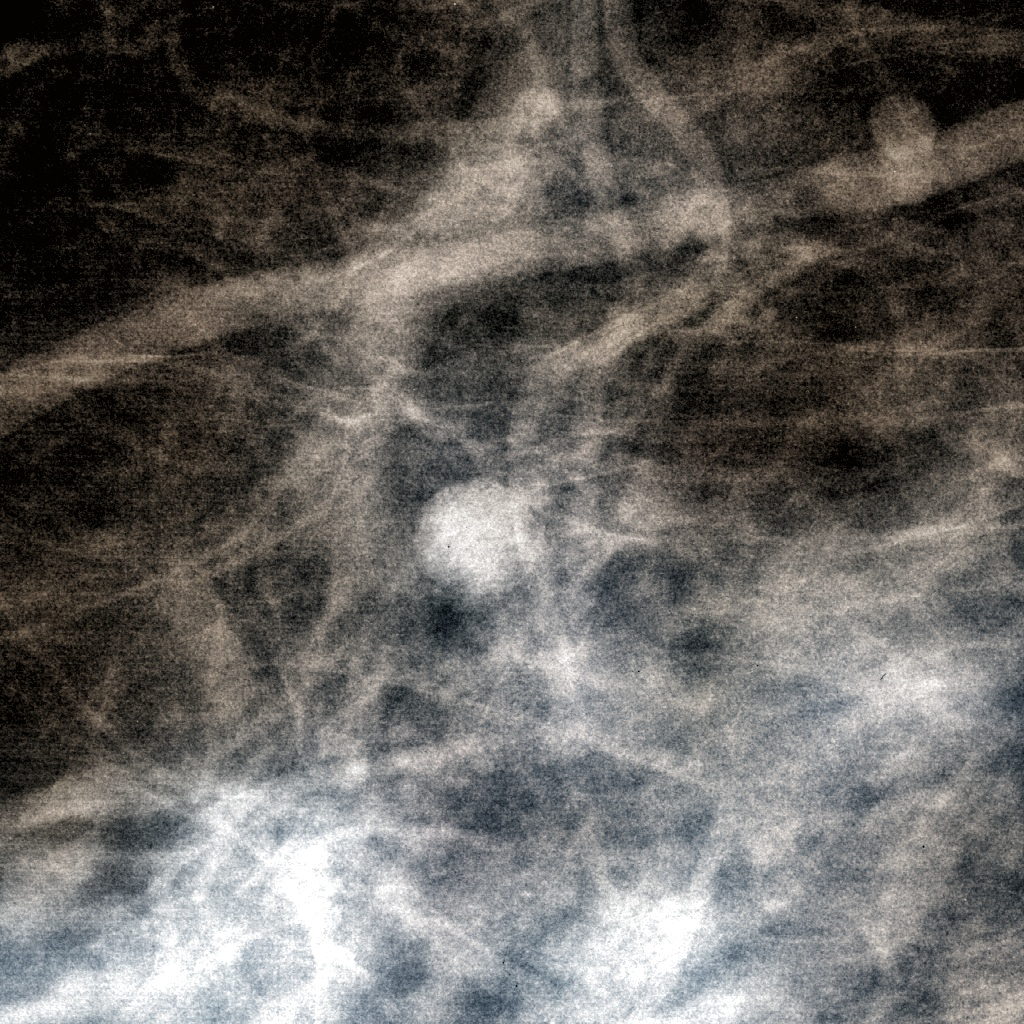tumor: (390, 410, 634, 614)
